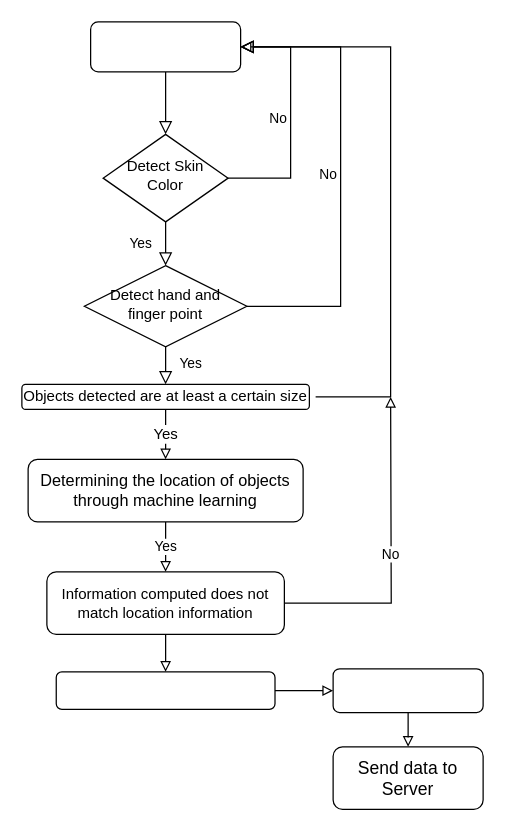
Some shapes in this 505 by 831 pixel diagram are drawn without their labels. The box of each missing label's shape, as (x1, y1, x2, y2) in pixels:
New frame: (89, 21, 241, 72)
Same information continuously: (332, 668, 483, 712)
Save Location Information: (55, 671, 275, 709)
